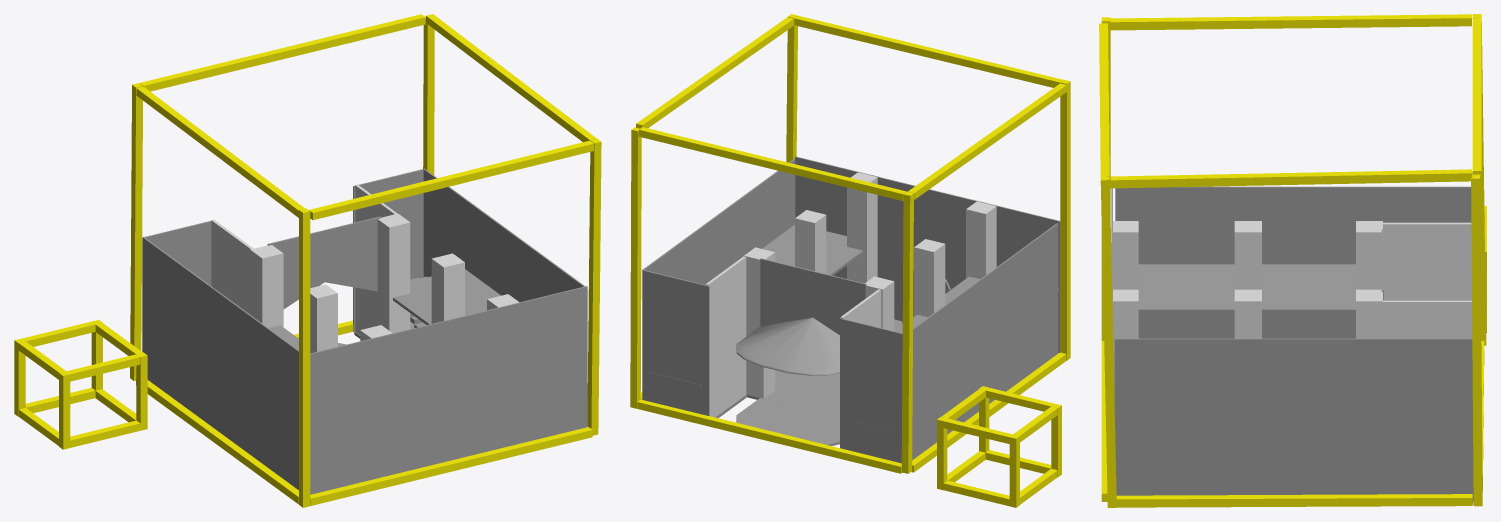
Rendered from ShortBurn Map team 16.fbx.
The picture shows the model from 3 angles, left to right: view 1: azimuth 30°, elevation 25°; view 2: azimuth 150°, elevation 25°; view 3: azimuth 270°, elevation 25°; orthographic projection. The views are drawn at different scales.
Visible parts, largest first — view 1: Front wall, Box20mx20mx20m, Left wall, pillers, right wall, box 5mx5mx5m, doorway, window 1, Back wall, stairwall 1, floor 2, stair wall 2; view 2: Box20mx20mx20m, Left wall, Back wall, pillers, Front wall, right wall, box 5mx5mx5m, window 1, stair wall 2, greenhouse.001, greenhouse, main floor (+3 smaller); view 3: right wall, Left wall, Box20mx20mx20m, pillers, floor 2, stairwall 1, stair wall 2.
Part boxes in pixels (x1,y1,x2,y2): Front wall: (310,286,587,494); Box20mx20mx20m: (130,14,601,507); Left wall: (142,237,298,489); pillers: (250,213,519,353); right wall: (423,168,584,302); box 5mx5mx5m: (14,319,147,449); doorway: (396,382,498,473); window 1: (267,216,380,309); Back wall: (144,169,423,331); stairwall 1: (211,219,253,314); floor 2: (269,269,500,349); stair wall 2: (355,184,397,334); Box20mx20mx20m: (630,14,1070,473); Left wall: (912,223,1058,459); Back wall: (642,270,902,463); pillers: (744,172,996,398); Front wall: (795,156,1060,352); right wall: (642,159,795,284); box 5mx5mx5m: (937,386,1061,507); window 1: (760,258,866,334); stair wall 2: (705,256,746,417); greenhouse.001: (736,317,839,375); greenhouse: (736,398,839,445); main floor: (715,319,902,418); right wall: (1114,338,1473,501); Left wall: (1115,186,1471,338); Box20mx20mx20m: (1099,14,1486,507); pillers: (1113,221,1382,379); floor 2: (1114,264,1355,397); stairwall 1: (1383,222,1471,300); stair wall 2: (1378,300,1472,338).
Size of the model in its own units: 2932 by 2064 by 2145.
